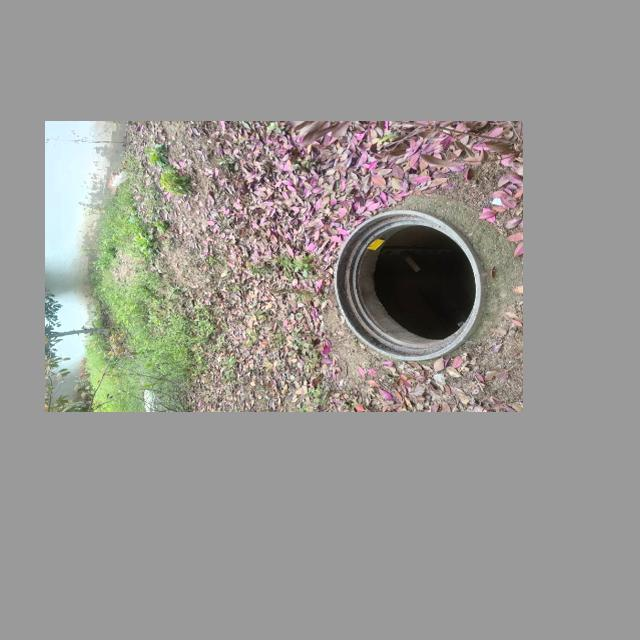lose: (333, 208, 481, 360)
